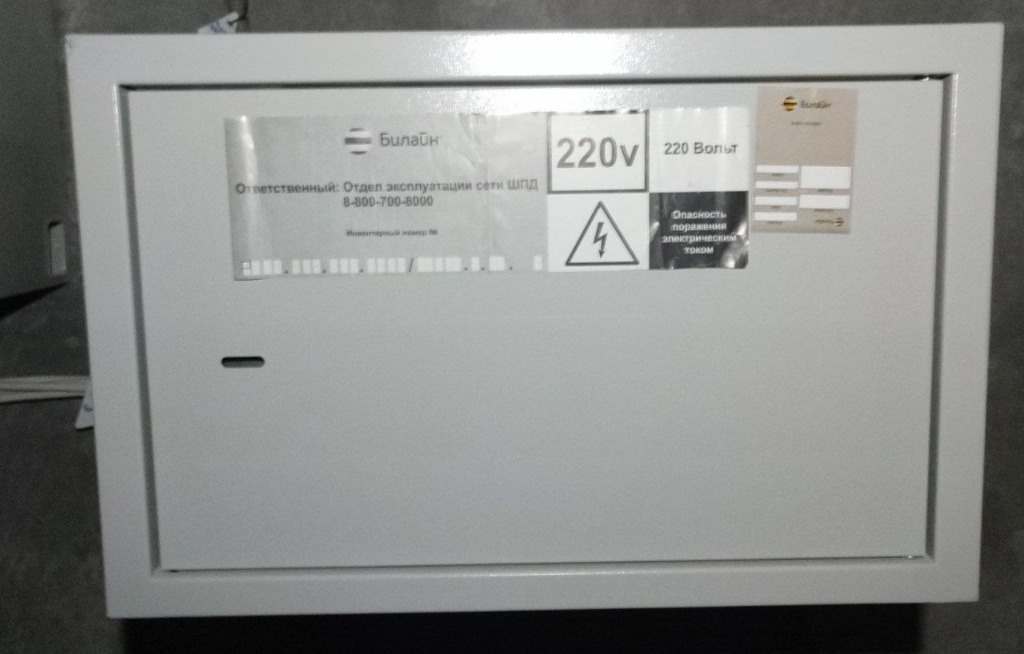shta-7m: (58, 19, 1009, 622)
